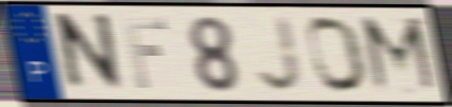8: (184, 13, 243, 95)
F: (119, 16, 171, 91)
J: (254, 15, 306, 95)
M: (356, 14, 444, 97)
N: (56, 10, 127, 96)
O: (305, 14, 371, 96)
